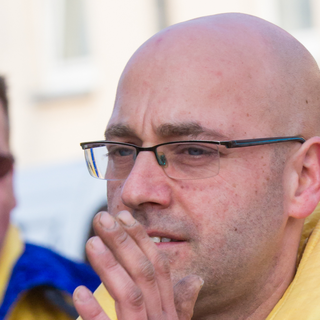eye: (165, 140, 222, 163), (102, 140, 142, 166)
